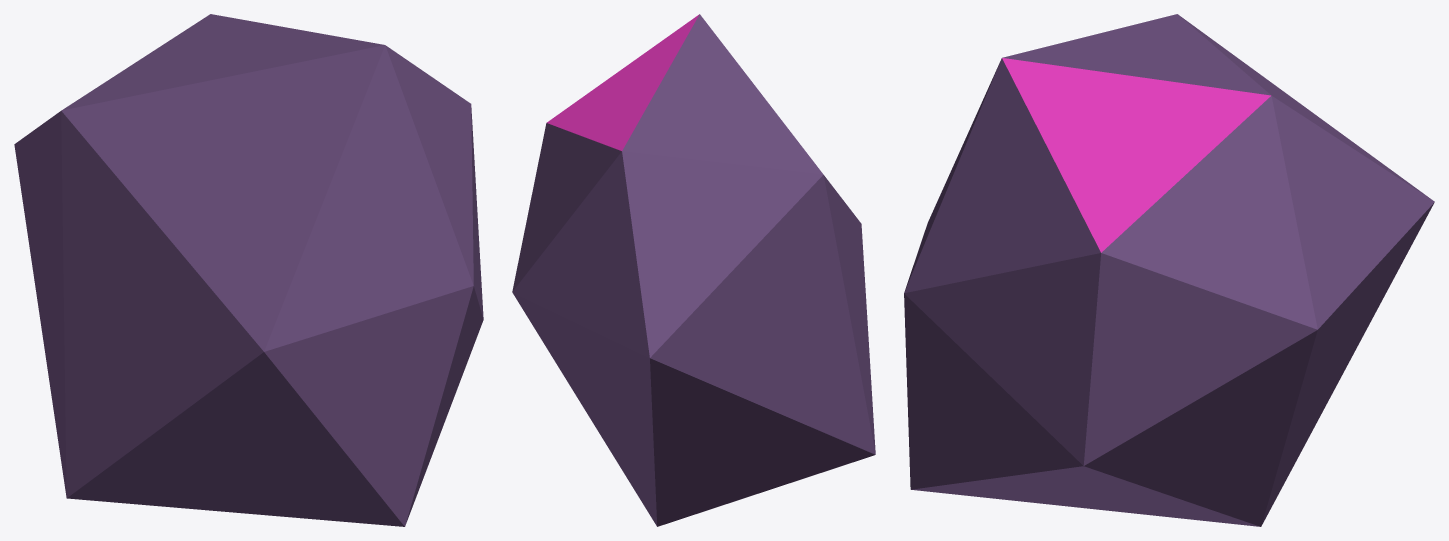
Rendered from boulder.glb.
The picture shows the model from 3 angles, left to right: view 1: azimuth 30°, elevation 25°; view 2: azimuth 150°, elevation 25°; view 3: azimuth 270°, elevation 25°; orthographic projection. The views are drawn at different scales.
Parts seen in each view (by area): view 1: boulder; view 2: boulder; view 3: boulder.
Part boxes in pixels (<box>): boulder: <box>14,14,483,526</box>; boulder: <box>512,14,875,526</box>; boulder: <box>904,14,1434,526</box>.
Bounding box in the file's own units: 0.7226 × 0.8619 × 0.8176.
